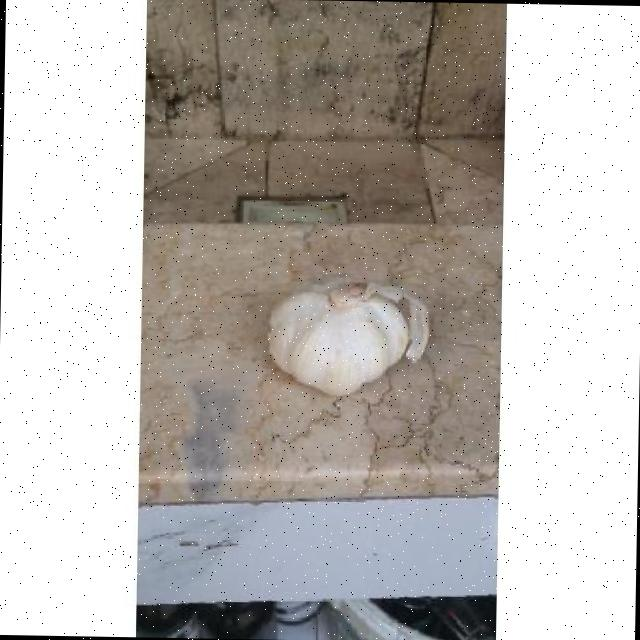garlic: (268, 283, 429, 395)
